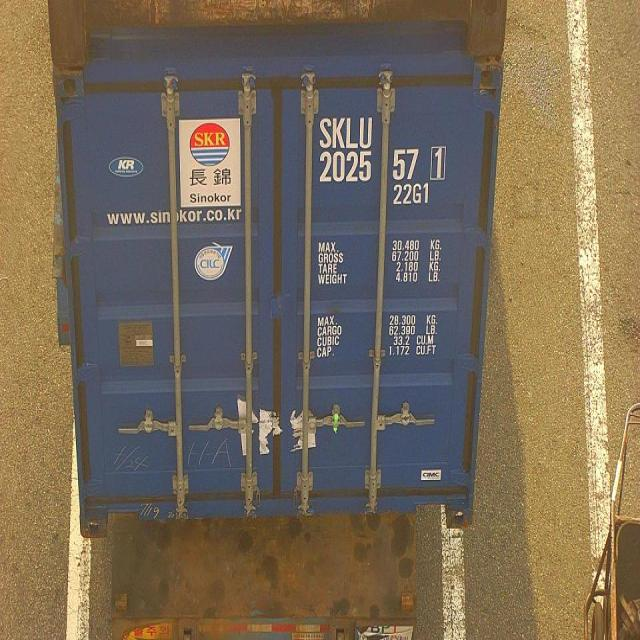ISO: (393, 182, 433, 205)
container_number: (324, 120, 446, 181)
